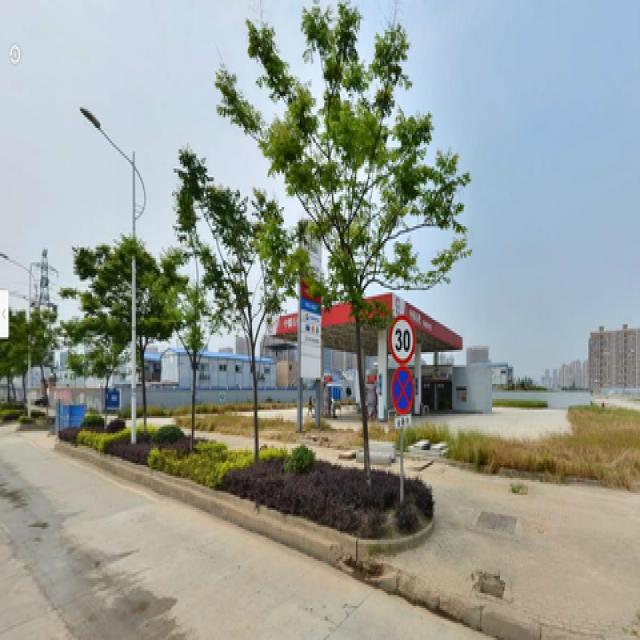koel: (248, 19, 456, 472)
